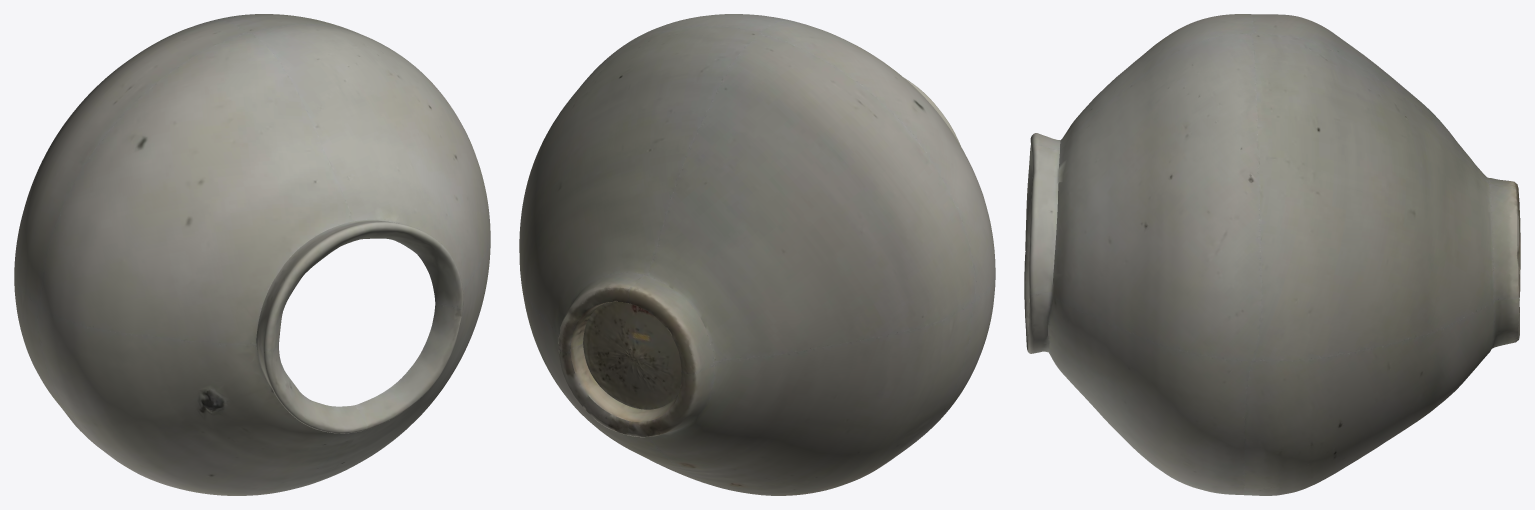
Rendered from moon-jar.glb.
3 views of the same model, side by side, from view 1: azimuth 30°, elevation 25°; view 2: azimuth 150°, elevation 25°; view 3: azimuth 270°, elevation 25° (orthographic).
Visible parts, largest first — view 1: jub002084-000-30000; view 2: jub002084-000-30000; view 3: jub002084-000-30000.
Part boxes in pixels (x1,y1,x2,y2): jub002084-000-30000: [14, 14, 490, 495]; jub002084-000-30000: [519, 14, 995, 495]; jub002084-000-30000: [1024, 14, 1520, 495].
Size of the model in its own units: 457 by 451 by 465.
Materials: 1 (1 with a texture image).
